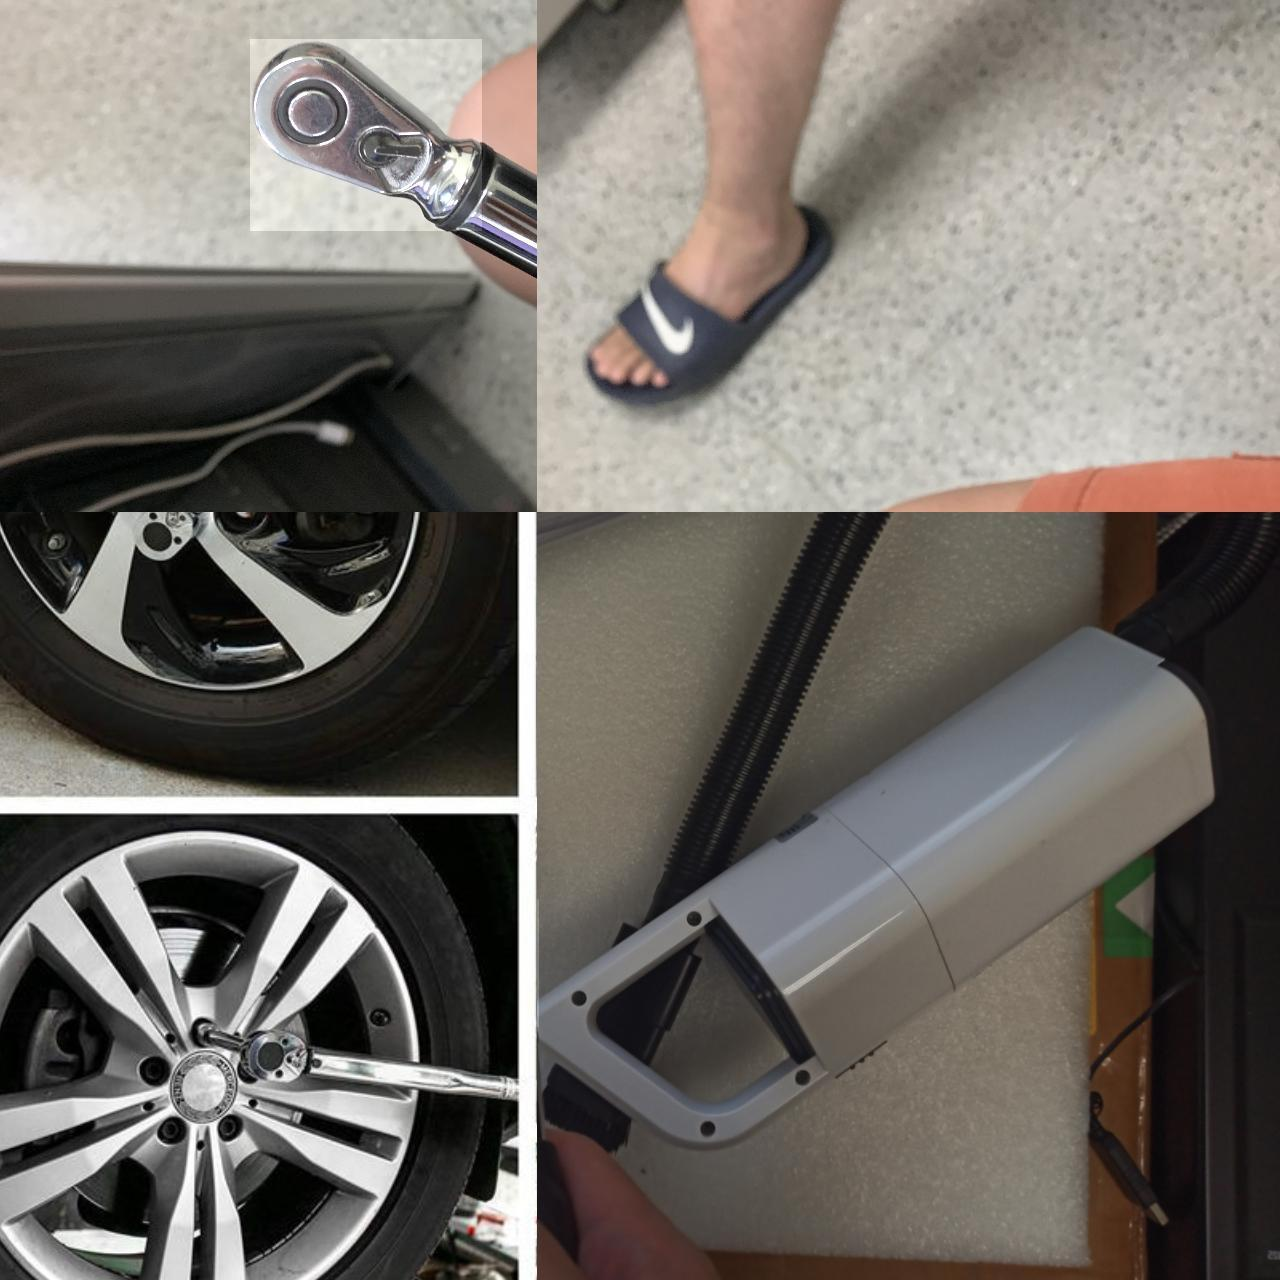Tool: (248, 38, 481, 230), (240, 1029, 304, 1083), (128, 512, 195, 557)
